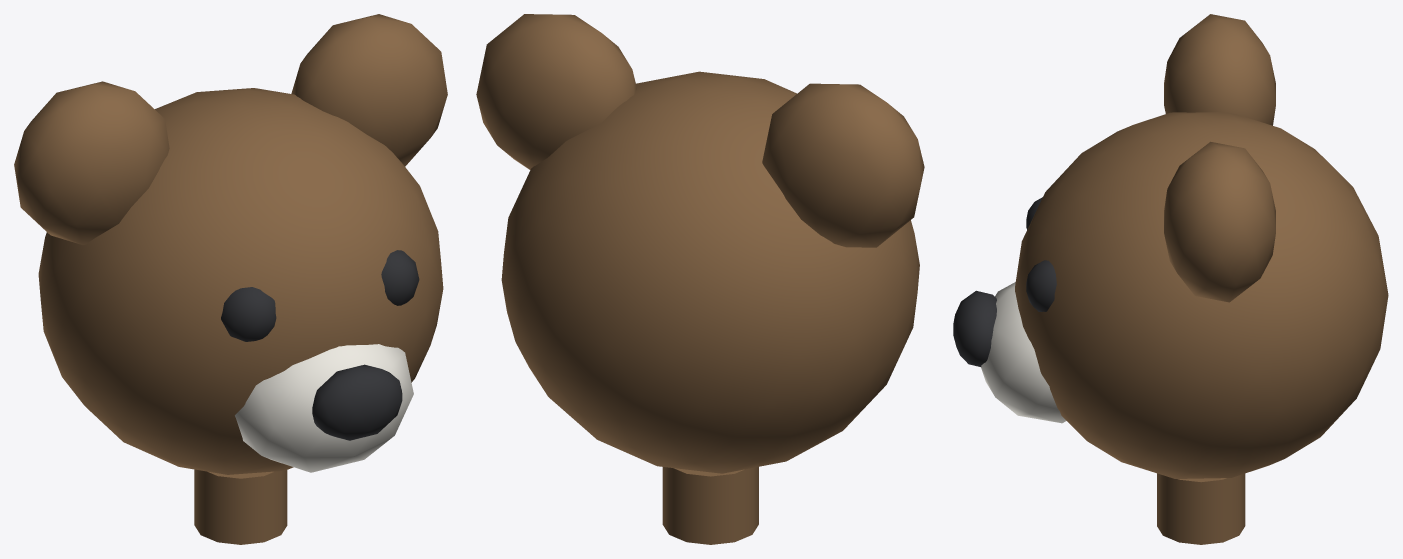
The model's file is bob_bear.fbx.
The picture shows the model from 3 angles, left to right: view 1: azimuth 30°, elevation 25°; view 2: azimuth 150°, elevation 25°; view 3: azimuth 270°, elevation 25°; orthographic projection. The views are drawn at different scales.
Parts seen in each view (by area): view 1: fur_1, cream_1, dark_1; view 2: fur_1; view 3: fur_1, cream_1, dark_1.
Part boxes in pixels (left/top/right/bottom): fur_1: left=14, top=14, right=447, bottom=544; cream_1: left=235, top=344, right=413, bottom=472; dark_1: left=221, top=250, right=419, bottom=440; fur_1: left=476, top=14, right=924, bottom=544; fur_1: left=1015, top=14, right=1388, bottom=544; cream_1: left=981, top=282, right=1066, bottom=423; dark_1: left=953, top=197, right=1056, bottom=366.
Bounding box in the file's own units: 0.0137 × 0.0143 × 0.0128.
